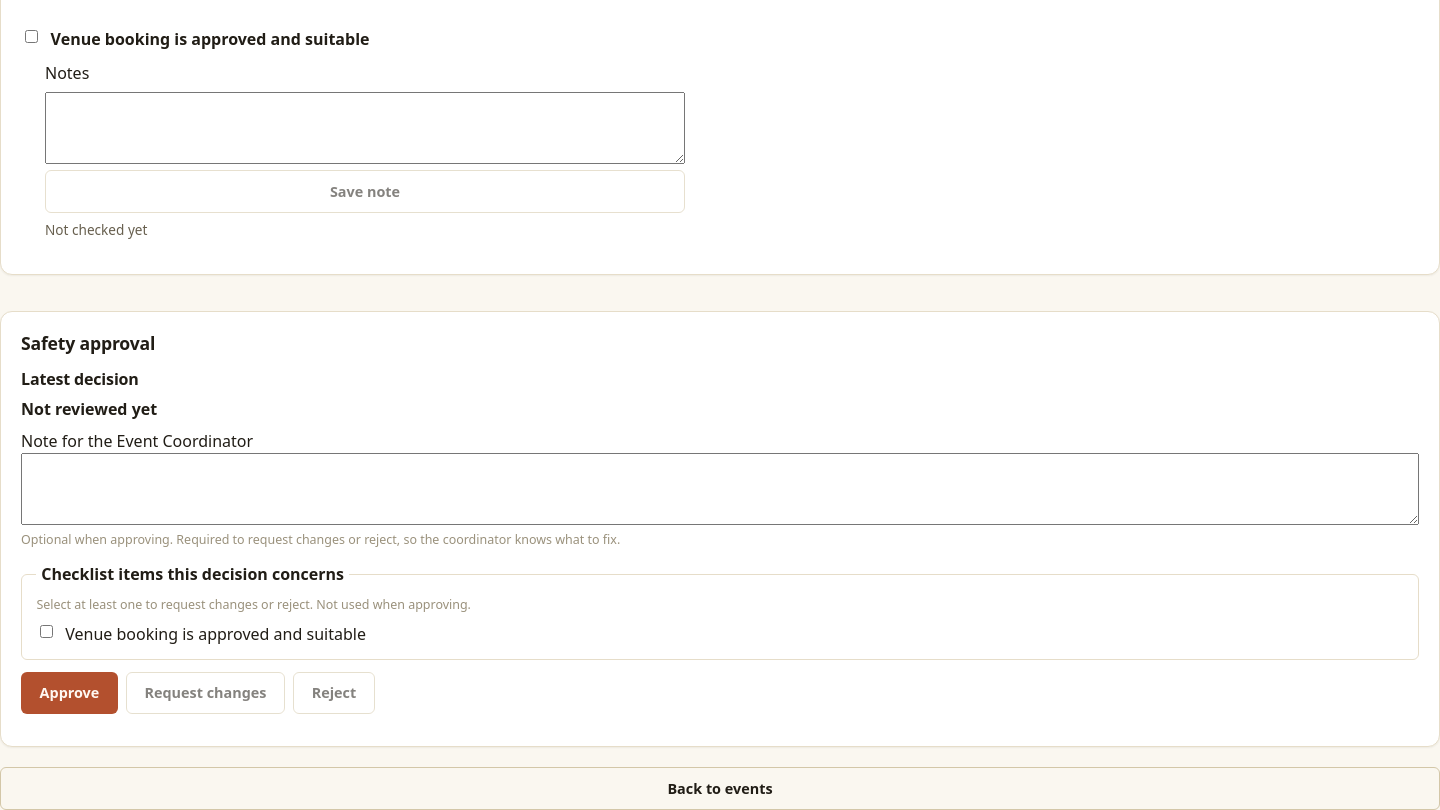
Safety Officer event views (SO-C1–SO-C4) › asks for a note before requesting changes, and sends the decision
(page scrolled)
Expected: the button "Request changes" is disabled, [126,672,285,714]
Expected: the button "Approve" is enabled, [21,672,118,714]
Type "Add a marshal" into the text box labelled "Note for the Event Coordinator". click: (720,490)
box: [21,454,1419,526]
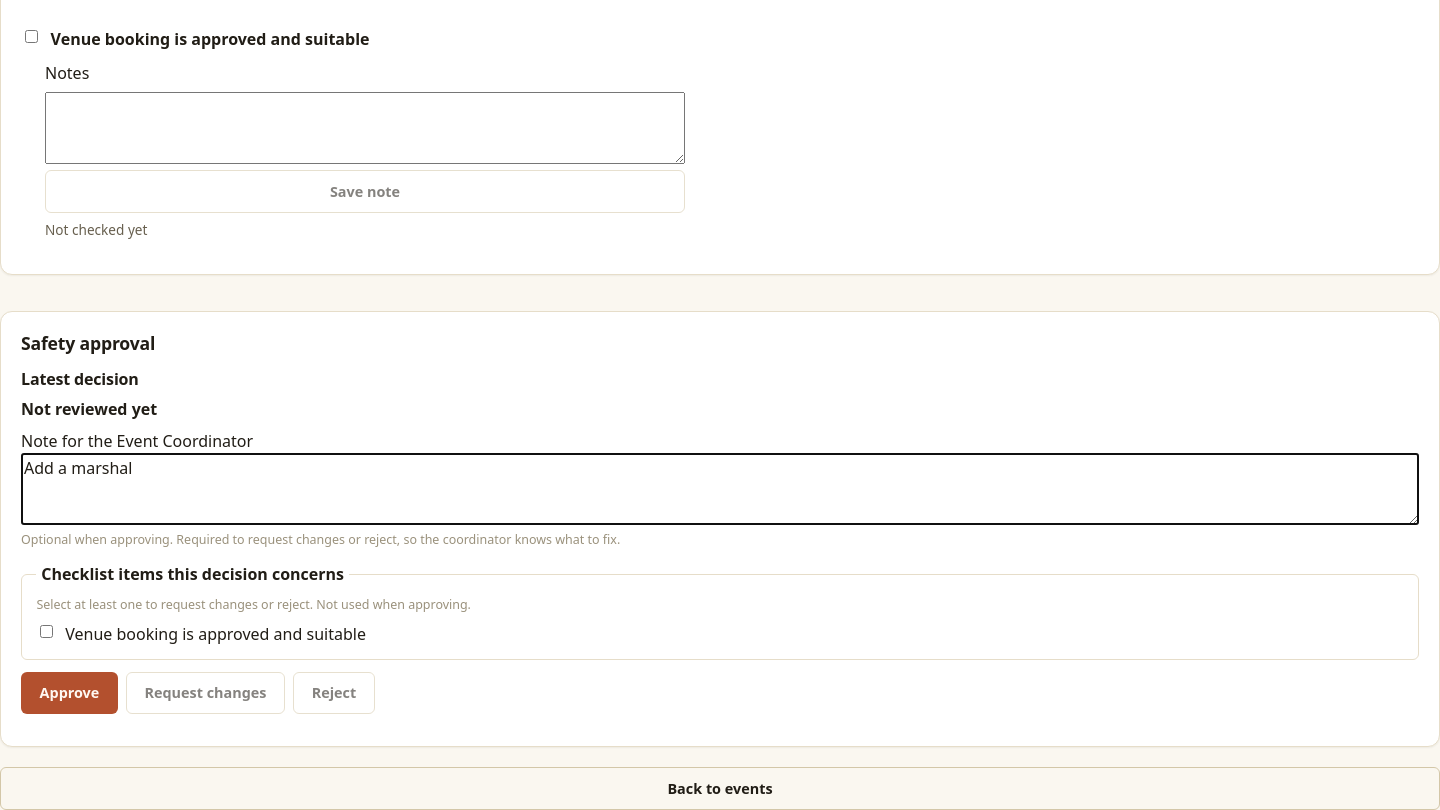
Expected: the button "Request changes" is disabled, [126,672,285,714]
Click the checkbox named "Raise: Venue booking is approved and suitable". click: (47,631)
box: [40,625,53,638]
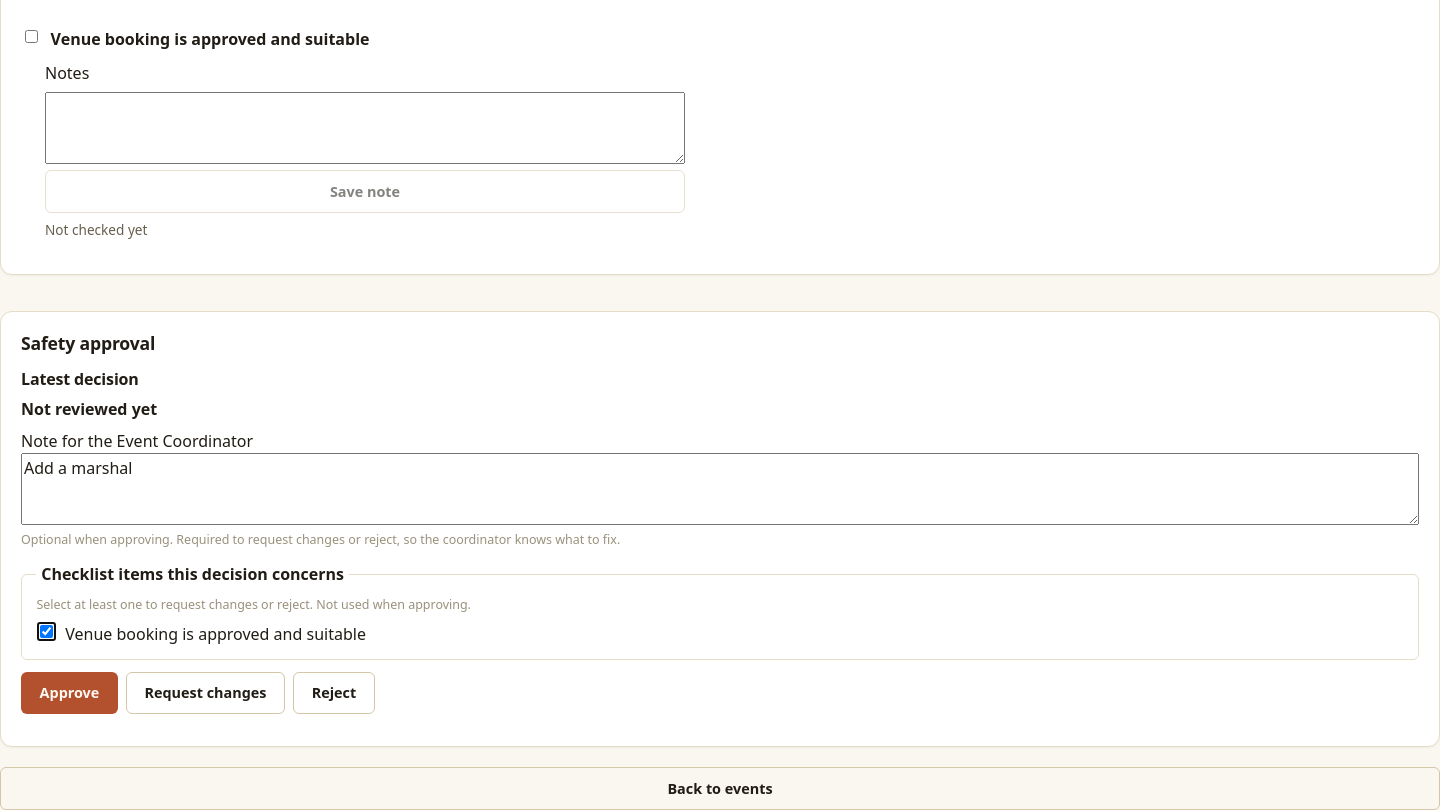
Click the button "Request changes". click: (206,693)
box: [126,672,285,714]
(page scrolled)
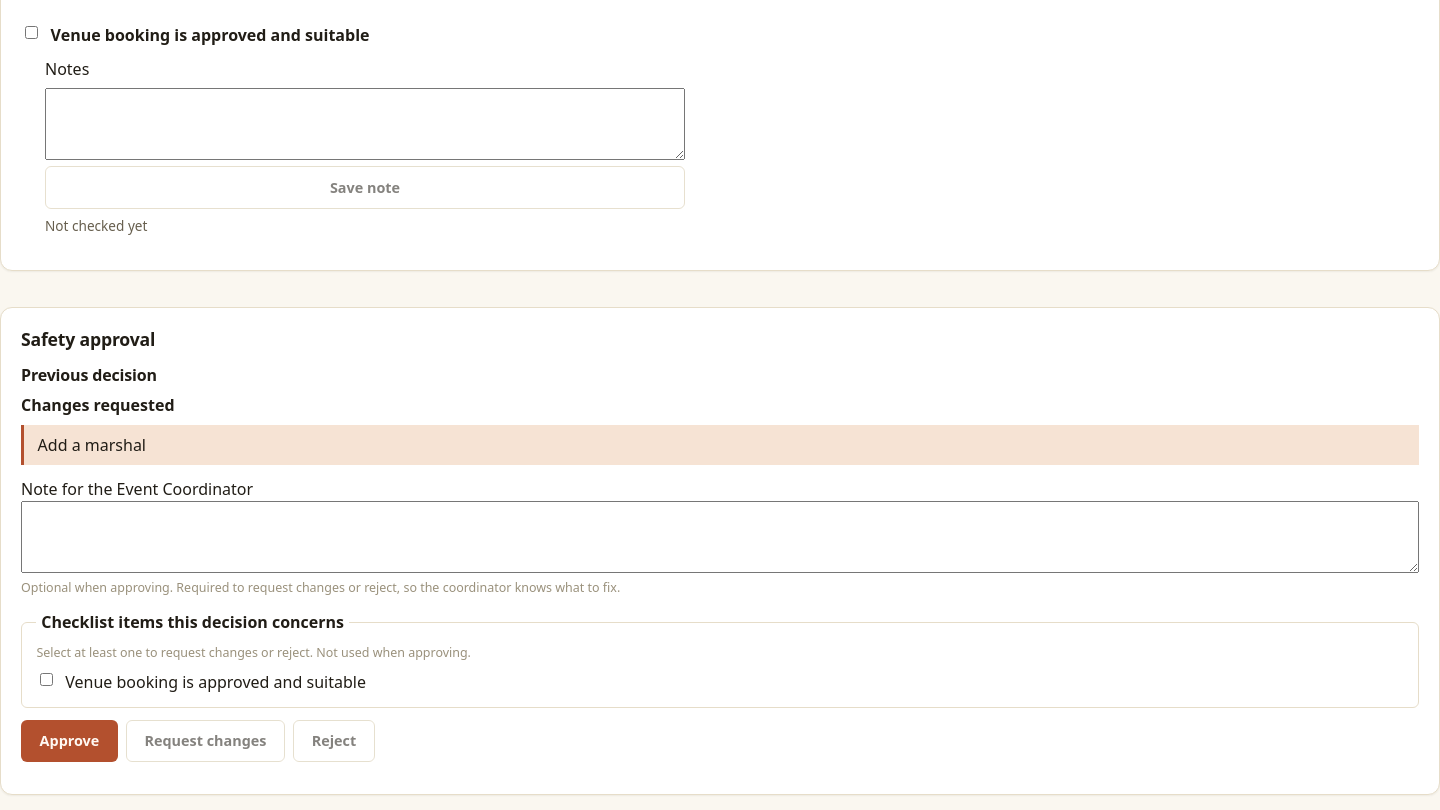
Expected: the text "Changes requested" is shown, [21,394,175,416]
